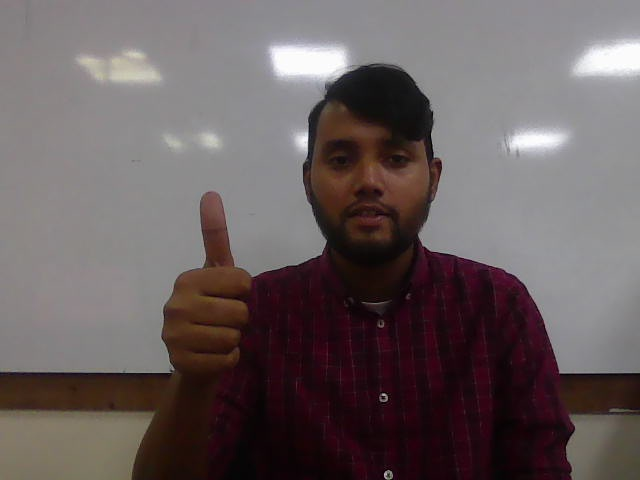Bhalo: (160, 189, 254, 385)
